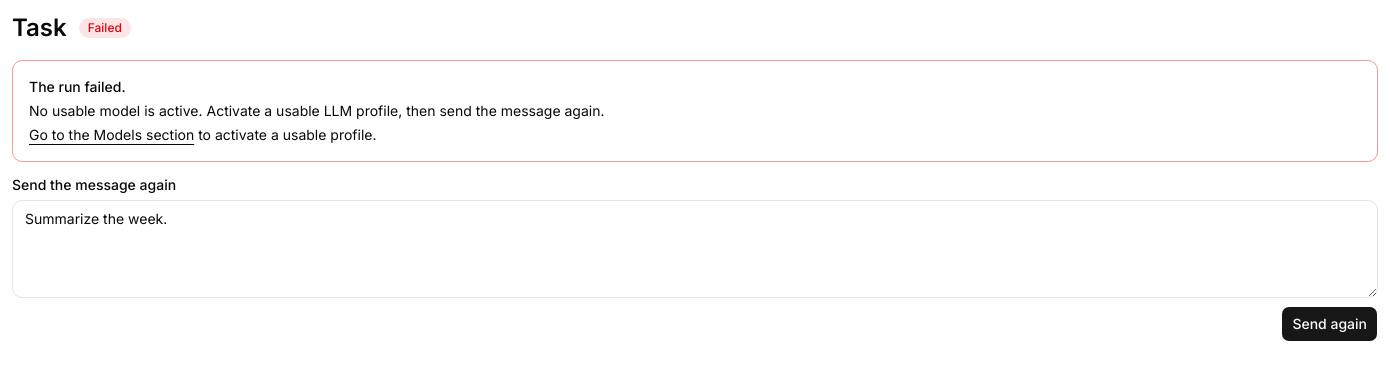
Test: a task's page › says in its own words that a run is in progress when the text is sent again
This screenshot has width=1390, height=386.
Click the button "Send again" at (1330, 324), box [1281,306,1378,342]
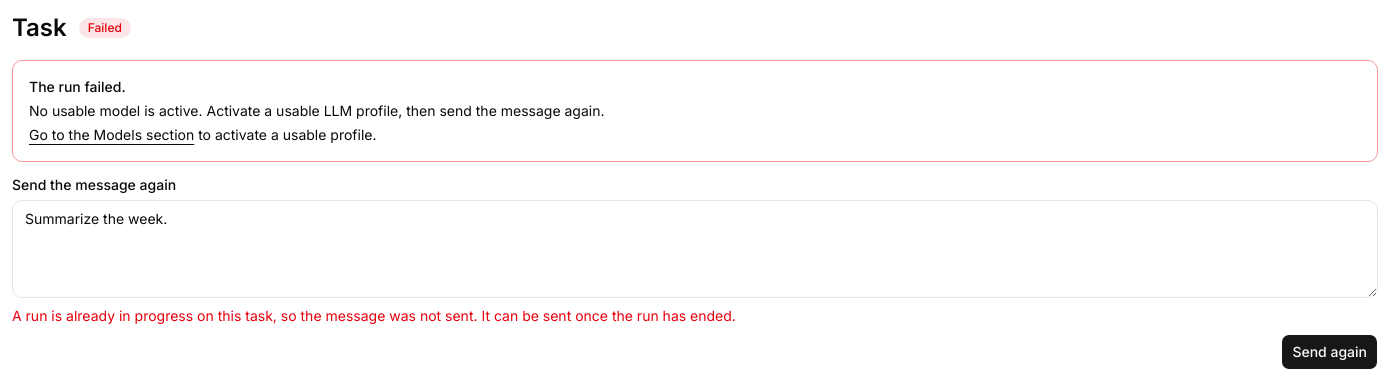
Expected: the text box labelled "Send the message again" holds "Summarize the week.", [12,200,1378,298]
Now the text "A run is already in progress on this task" is shown, box [12,307,736,324]
